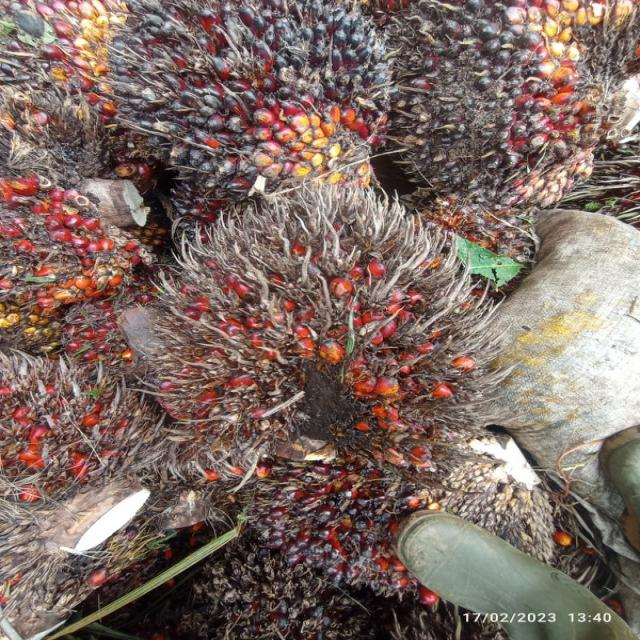fraksi 00: (110, 0, 402, 189), (378, 0, 640, 209)
fraksi 4: (107, 156, 504, 524)
